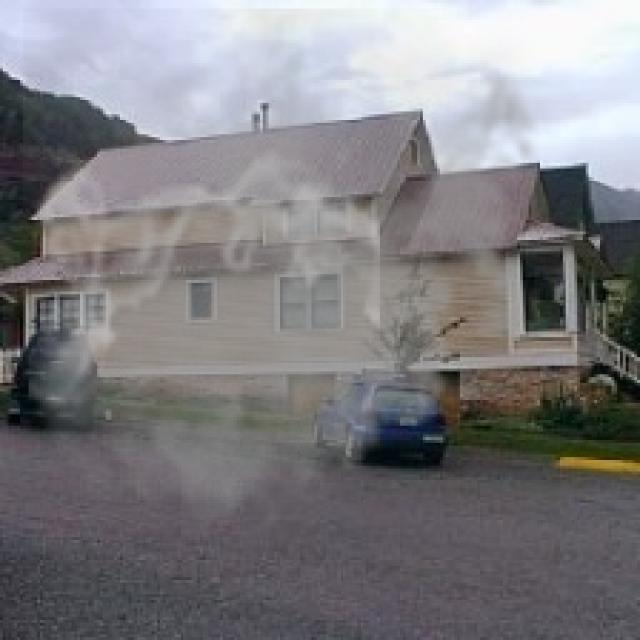smoke: (23, 8, 554, 546)
